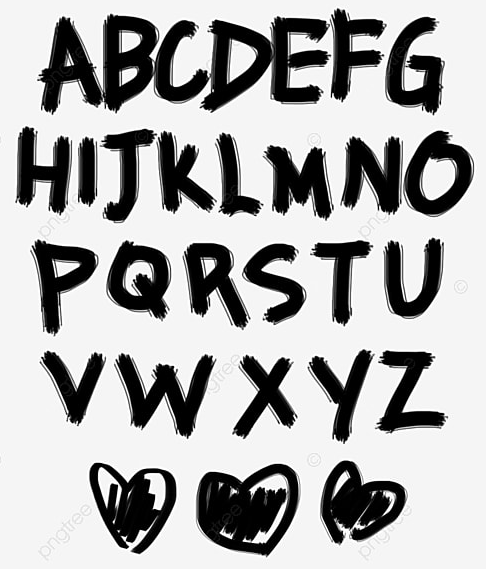A: (36, 14, 104, 114)
B: (102, 11, 155, 114)
C: (156, 17, 208, 105)
D: (207, 17, 272, 113)
E: (272, 14, 328, 108)
F: (330, 5, 385, 103)
G: (385, 14, 448, 117)
H: (13, 122, 73, 217)
I: (76, 133, 101, 208)
J: (101, 128, 153, 222)
K: (154, 129, 216, 217)
L: (213, 132, 265, 219)
M: (268, 144, 339, 221)
N: (340, 134, 405, 214)
O: (404, 128, 476, 217)
P: (26, 234, 101, 337)
Q: (105, 240, 173, 321)
R: (181, 242, 248, 332)
S: (246, 240, 309, 326)
T: (309, 238, 378, 325)
U: (378, 235, 449, 321)
V: (36, 343, 111, 426)
W: (113, 347, 219, 440)
X: (231, 347, 302, 443)
Y: (308, 349, 378, 445)
Z: (378, 346, 446, 438)
